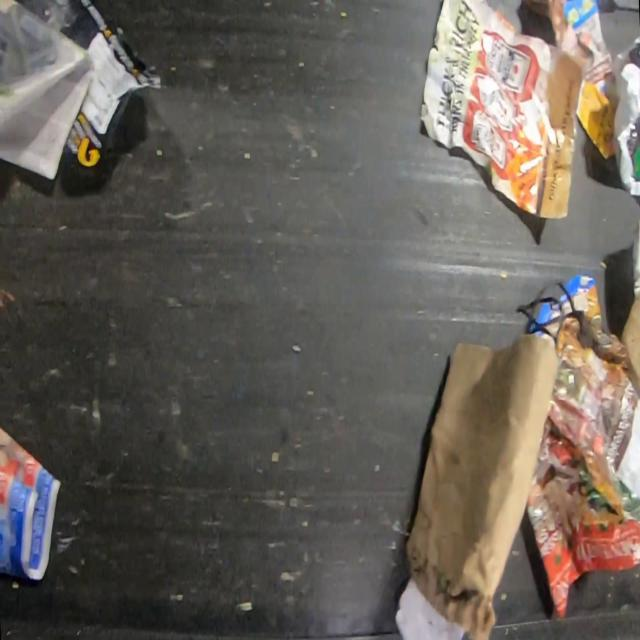cardboard: (406, 332, 559, 638), (622, 221, 639, 397)
soft_plastic: (612, 36, 639, 199)
